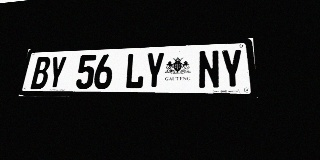5: (75, 55, 97, 89)
6: (93, 54, 114, 89)
B: (30, 56, 51, 89)
L: (124, 53, 145, 89)
N: (198, 50, 220, 89)
Y: (220, 49, 245, 89), (144, 52, 165, 89), (46, 56, 67, 89)
